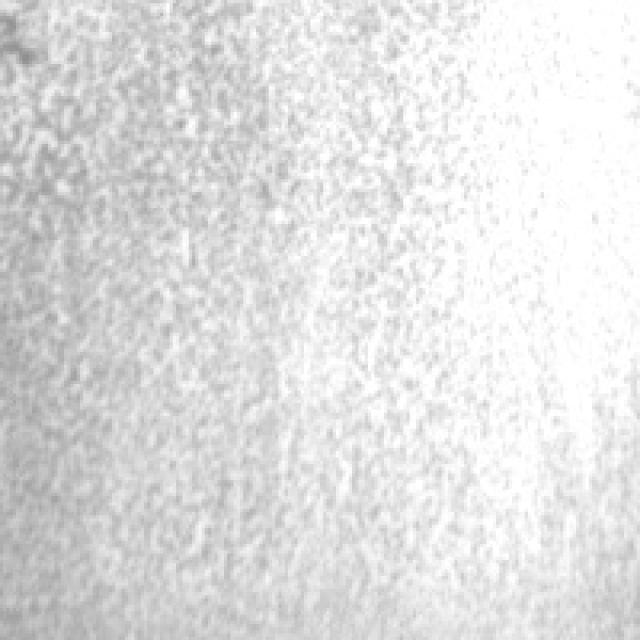pitted_surface: (10, 3, 560, 611)
